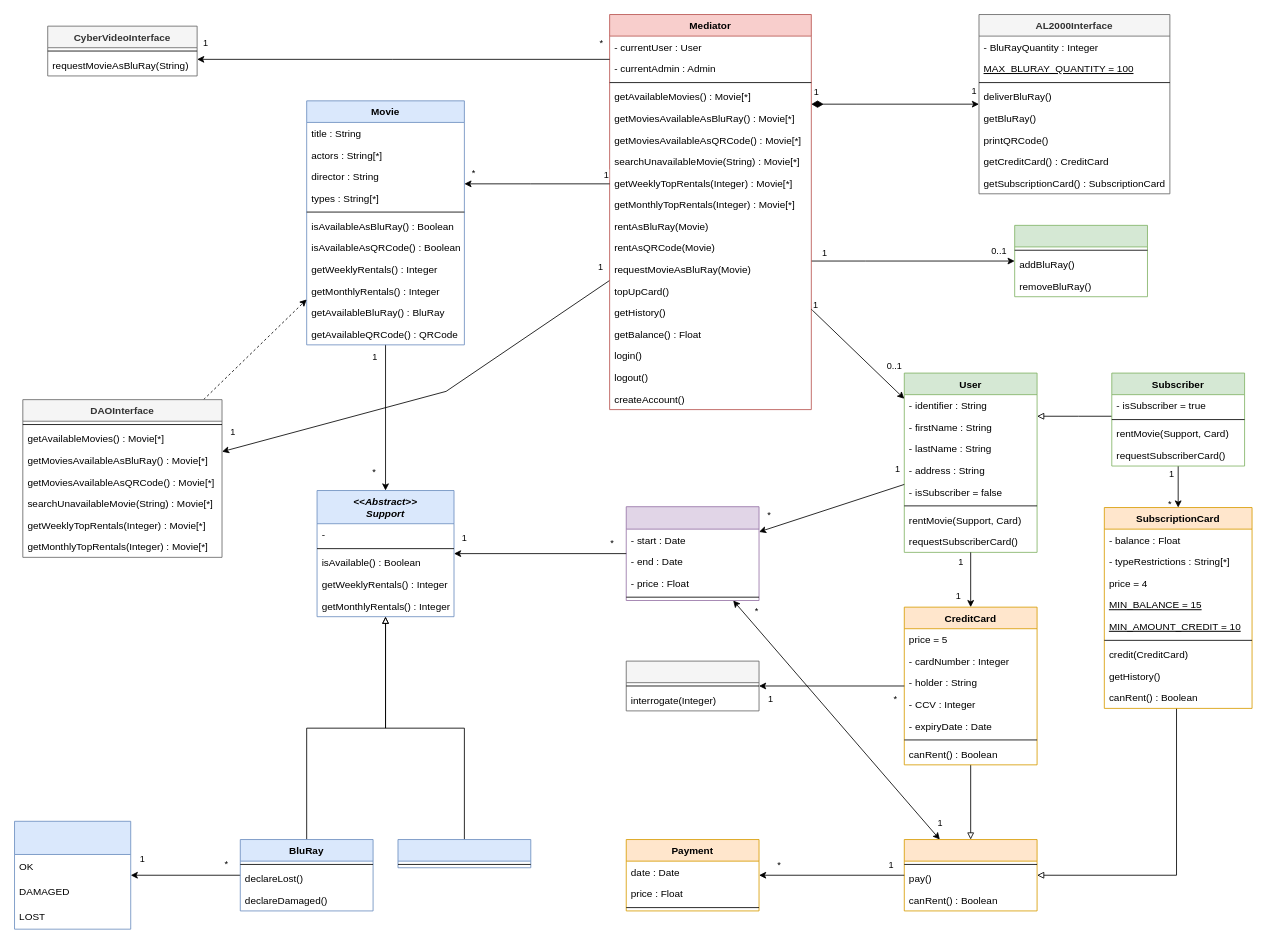
This 1267x944 diagram has some shape labels left out. The box of each missing label's shape, as (x1, y1, x2, y2) in pixels:
<<enumeration>> BluRayState: (14, 820, 131, 929)
Admin: (1014, 225, 1147, 297)
Bank: (625, 660, 759, 711)
Card: (903, 839, 1037, 911)
QRCode: (397, 839, 531, 868)
Rental: (625, 506, 759, 601)
